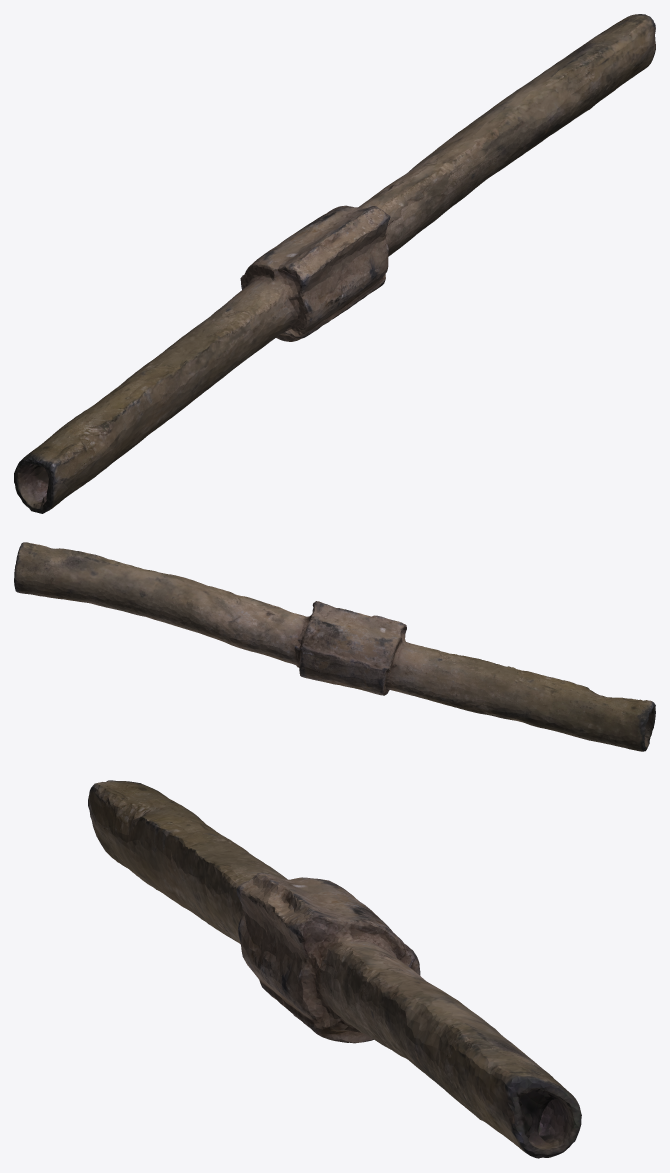
File: roman_pipe.dae
3 renders of one model, top to bottom at view 1: azimuth 30°, elevation 25°; view 2: azimuth 150°, elevation 25°; view 3: azimuth 270°, elevation 25°, orthographic. The views are drawn at different scales.
Parts seen in each view (by area): view 1: node; view 2: node; view 3: node.
Boxes of the visible parts, left/top/right/bottom form: node: left=14, top=14, right=655, bottom=513; node: left=14, top=542, right=655, bottom=751; node: left=88, top=780, right=581, bottom=1158.
Bounding box in the file's own units: 3.7 × 0.9871 × 1.47.
1 material, 1 textured.
